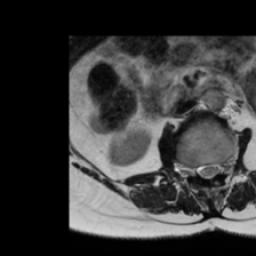CCS_stenosis: (203, 157, 211, 186)
LFS_normal: (219, 157, 227, 182)
LLS_normal: (213, 158, 219, 182)
RFS_normal: (186, 160, 195, 181)
RLS_normal: (195, 159, 202, 182)
